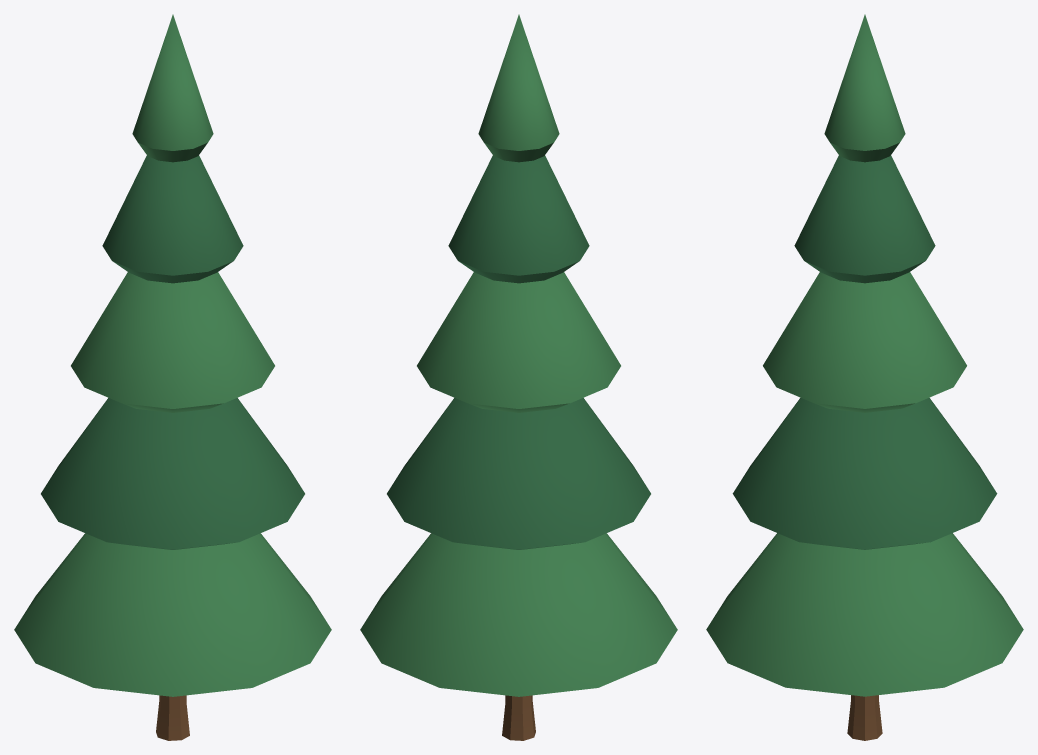
File: tree_pine.glb
3 renders of one model, left to right at view 1: azimuth 30°, elevation 25°; view 2: azimuth 150°, elevation 25°; view 3: azimuth 270°, elevation 25°, orthographic.
Parts seen in each view (by area): view 1: body; view 2: body; view 3: body.
Part boxes in pixels (left/top/right/bottom): body: left=14, top=14, right=331, bottom=740; body: left=360, top=14, right=677, bottom=740; body: left=706, top=14, right=1023, bottom=740.
Size of the model in its own units: 360 by 900 by 360.
